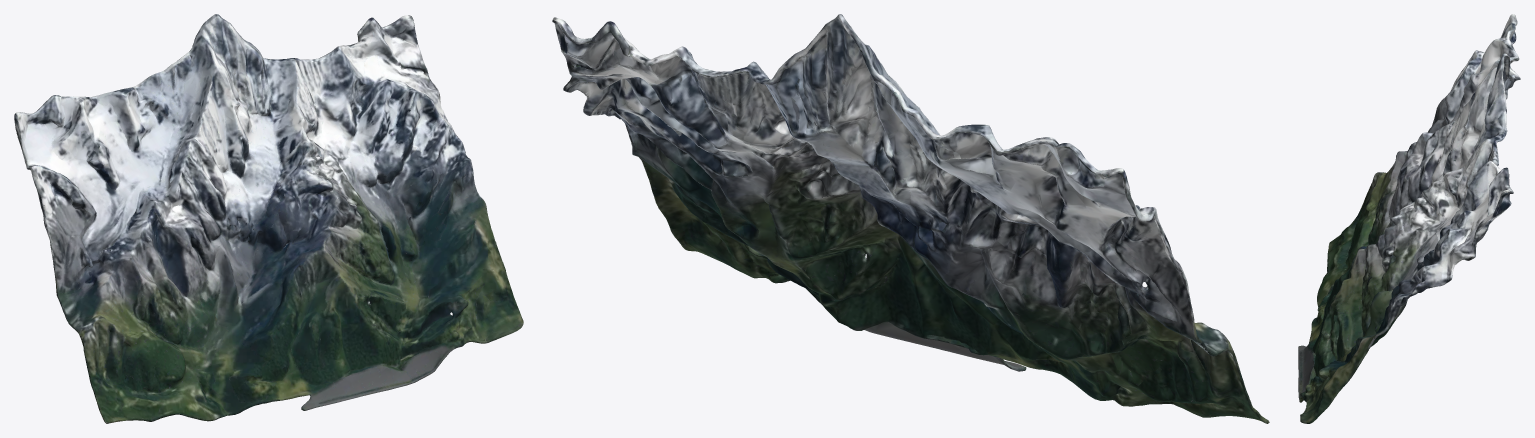
File: gongga-range-v1.glb
3 renders of one model, left to right at view 1: azimuth 30°, elevation 25°; view 2: azimuth 150°, elevation 25°; view 3: azimuth 270°, elevation 25°, orthographic. The views are drawn at different scales.
Parts seen in each view (by area): view 1: geometry_0; view 2: geometry_0; view 3: geometry_0.
Boxes of the visible parts, x1,y1,x2,y2 form: geometry_0: (14, 14, 523, 423); geometry_0: (552, 14, 1269, 423); geometry_0: (1298, 14, 1520, 423).
Bounding box in the file's own units: 0.3 × 0.2216 × 0.1474.
Materials: 1 (1 with a texture image).
